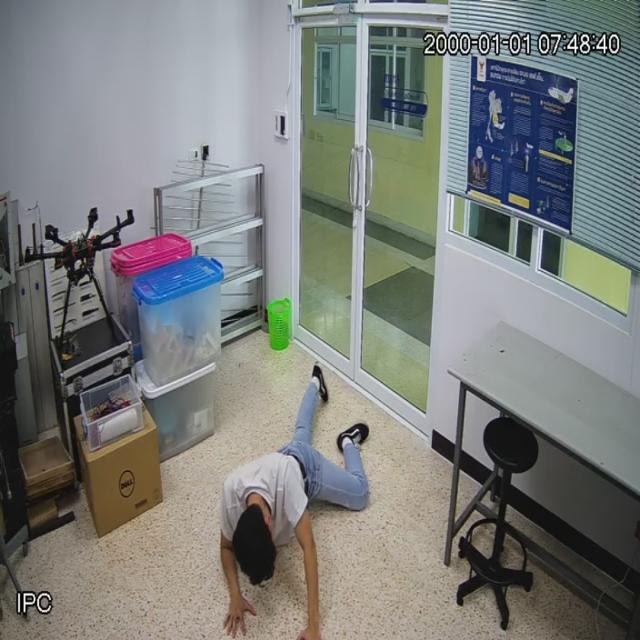fall: (224, 374, 366, 640)
